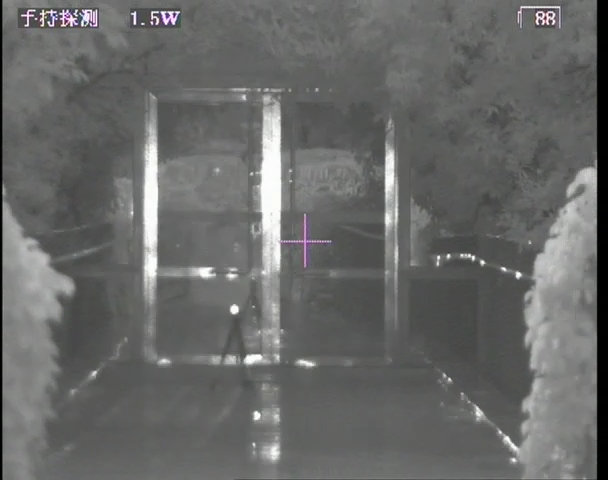my: (228, 303, 240, 317)
